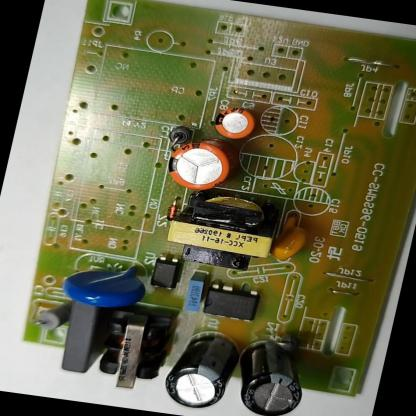Cap1: (157, 133, 241, 197)
Cap2: (206, 102, 262, 143)
Cap3: (158, 325, 248, 416)
Cap4: (226, 334, 316, 416)
MOSFET: (197, 282, 262, 326)
Mov: (58, 252, 151, 314)
Resistor: (28, 301, 73, 335)
Transformer: (159, 185, 285, 277), (90, 308, 178, 393)
